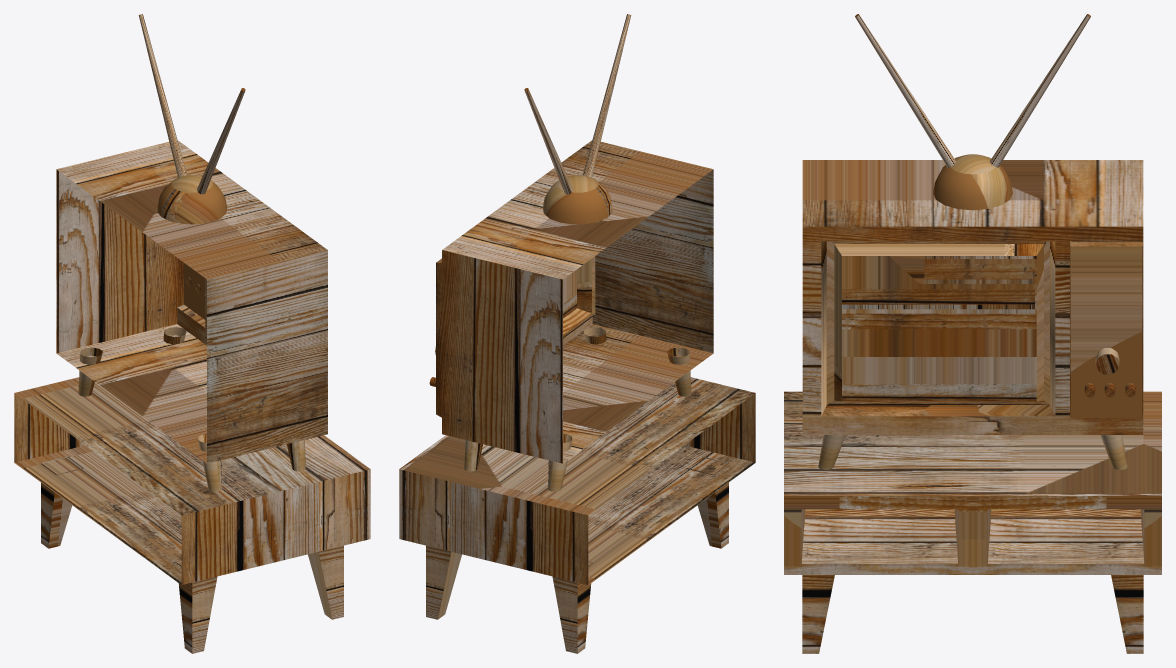
The picture shows the model from 3 angles, left to right: view 1: azimuth 30°, elevation 25°; view 2: azimuth 150°, elevation 25°; view 3: azimuth 270°, elevation 25°; orthographic projection. The views are drawn at different scales.
Visible parts, largest first — view 1: tv_low, tumba_low; view 2: tv_low, tumba_low; view 3: tv_low, tumba_low.
Boxes of the visible parts, left/top/right/bottom form: tv_low: left=56, top=14, right=327, bottom=491; tumba_low: left=14, top=377, right=370, bottom=653; tv_low: left=429, top=14, right=713, bottom=491; tumba_low: left=399, top=377, right=755, bottom=653; tv_low: left=802, top=14, right=1143, bottom=469; tumba_low: left=784, top=391, right=1161, bottom=653.
Bounding box in the file's own units: 64.5 × 172 × 98.75.
